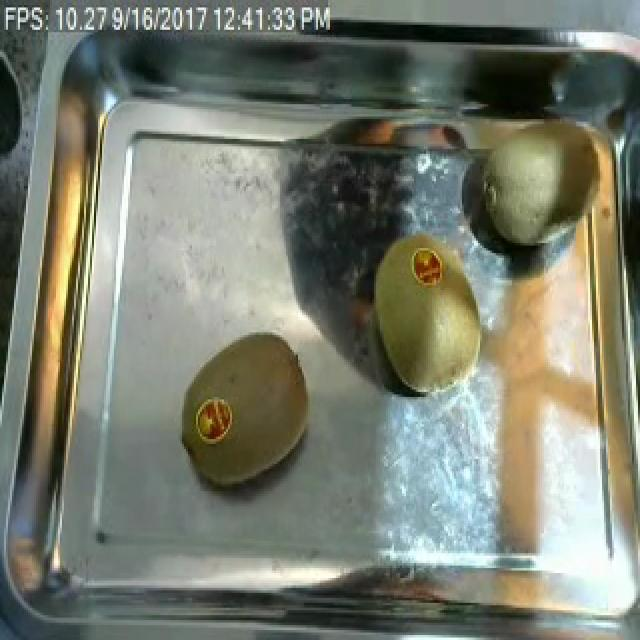Fruit: (456, 99, 638, 263), (174, 328, 320, 496), (360, 231, 492, 404)
